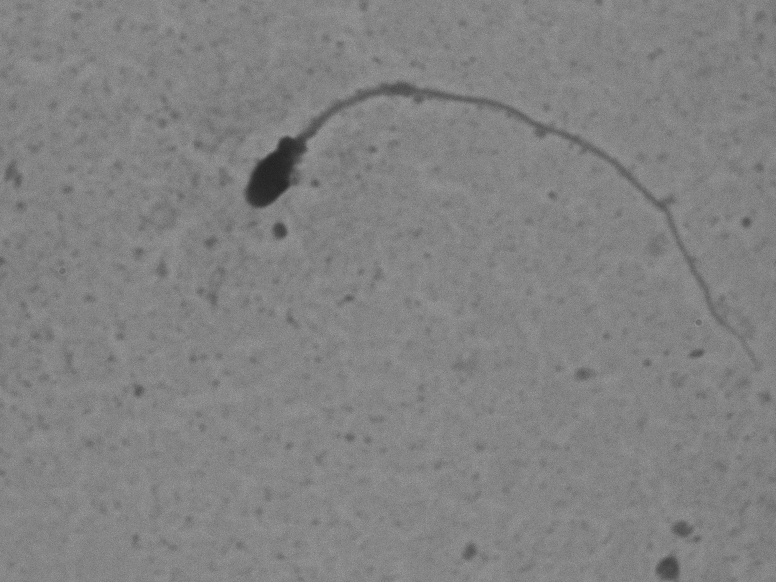Abnormal: (185, 55, 766, 389)
